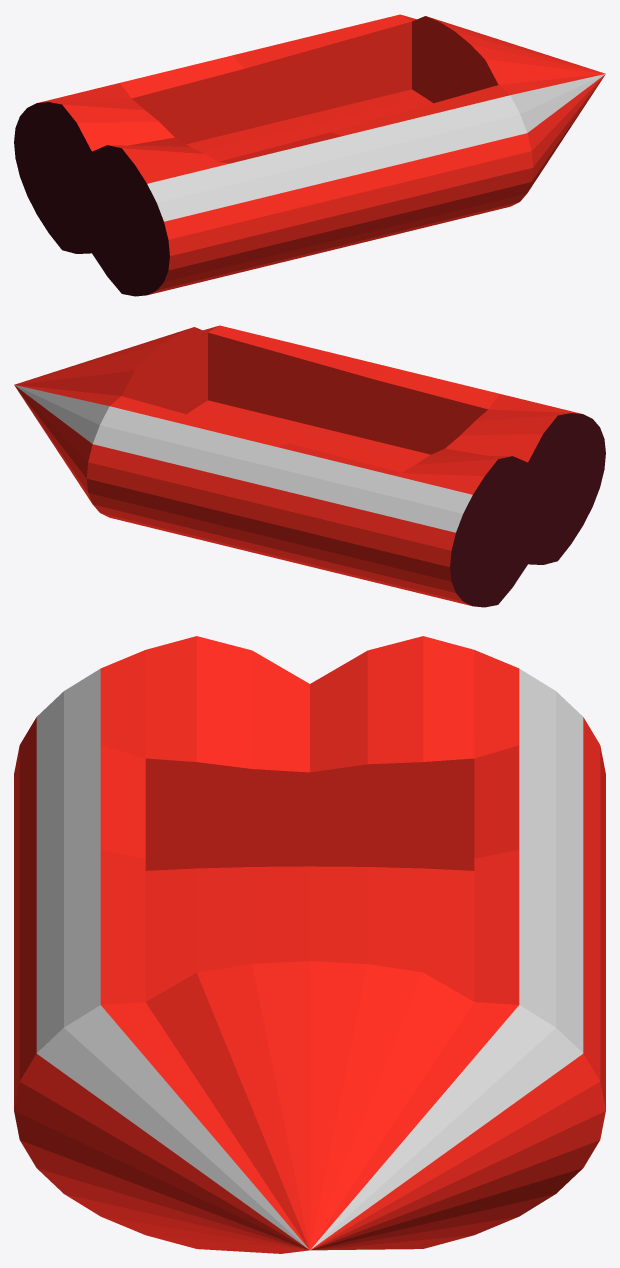
File: fcf.glb
The picture shows the model from 3 angles, top to bottom: view 1: azimuth 30°, elevation 25°; view 2: azimuth 150°, elevation 25°; view 3: azimuth 270°, elevation 25°; orthographic projection. The views are drawn at different scales.
Parts seen in each view (by area): view 1: gltf; view 2: gltf; view 3: gltf.
Boxes of the visible parts, box(x1,y1,x2,y2) form: gltf: box(14, 14, 605, 296); gltf: box(14, 325, 605, 607); gltf: box(14, 636, 605, 1253).
Size of the model in its own units: 6.82 by 1.92 by 3.59.
